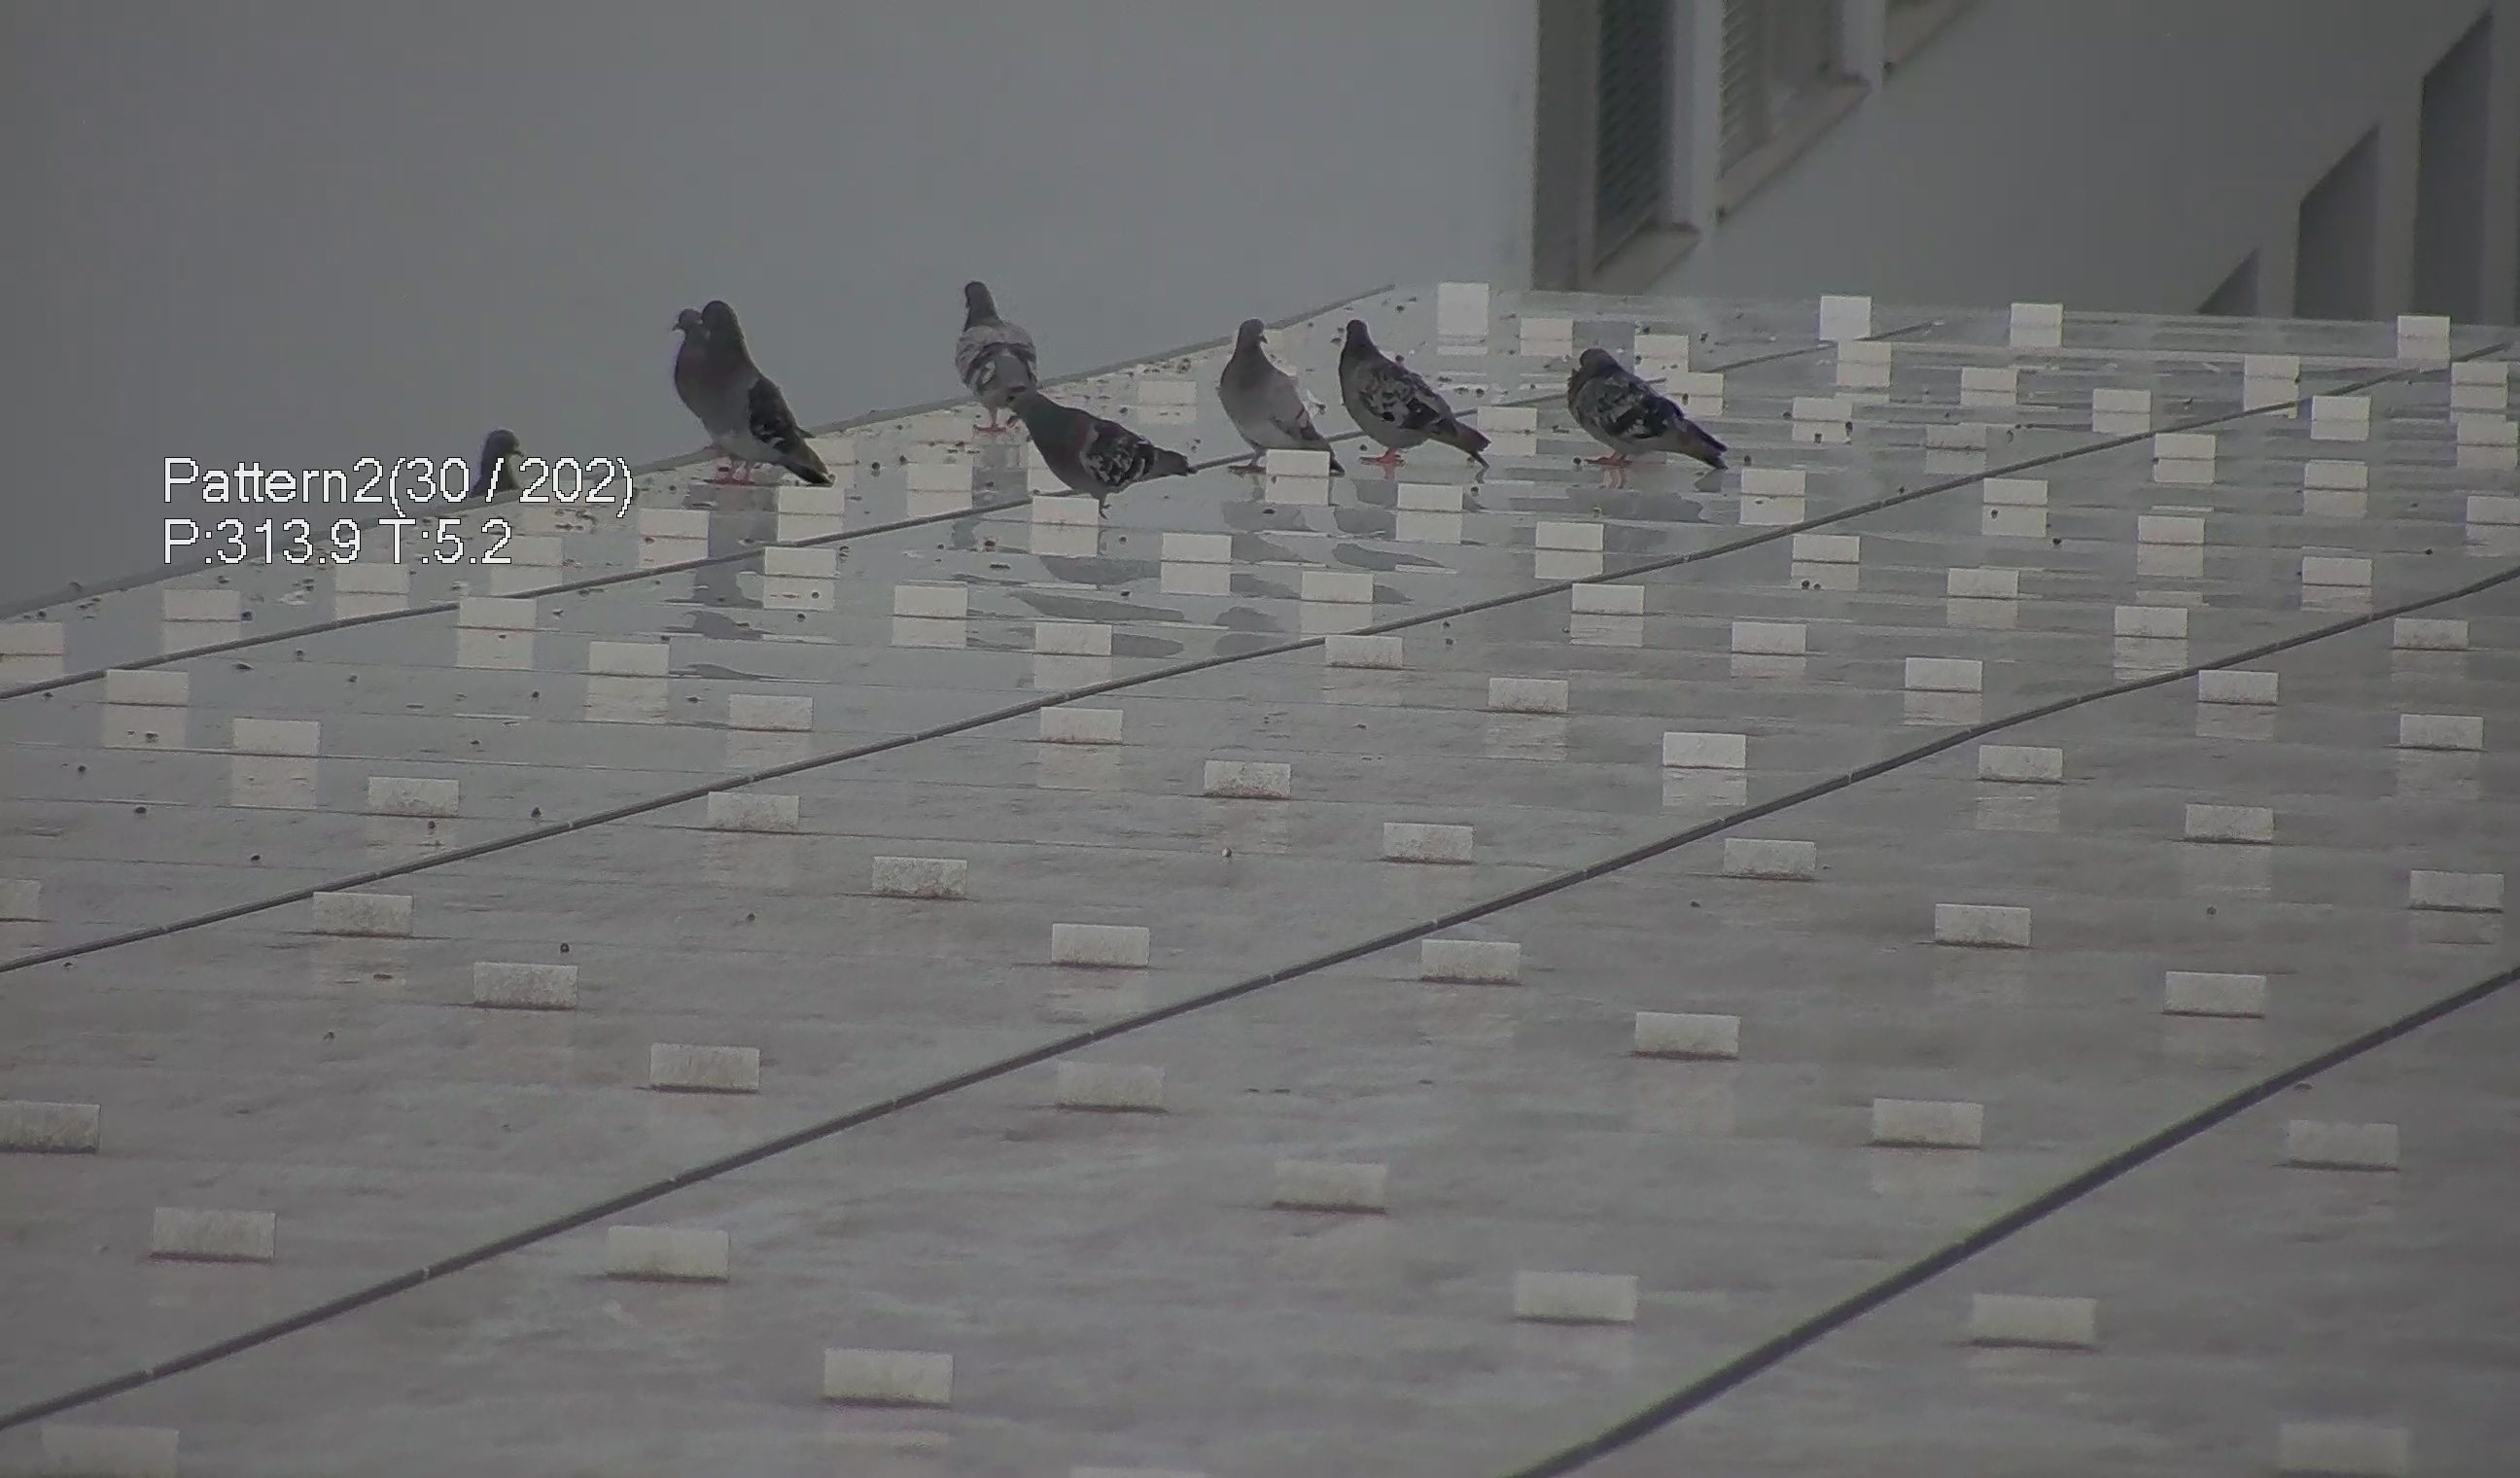Pigeon: (651, 285, 823, 491), (995, 368, 1219, 514), (1328, 308, 1500, 472), (1562, 331, 1741, 477), (1210, 308, 1329, 472), (950, 264, 1053, 431), (457, 408, 542, 509)
